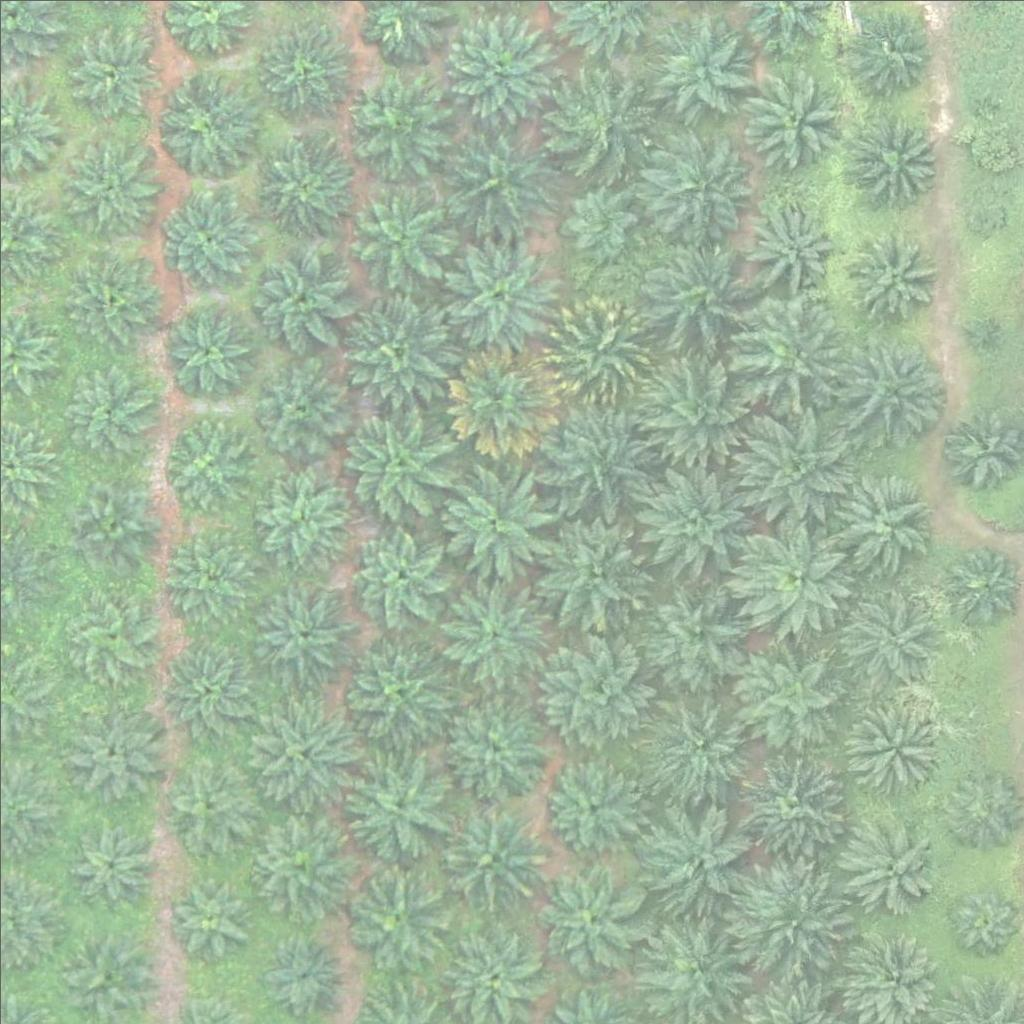Kelapa_Sawit: (443, 2, 556, 116), (836, 333, 949, 447), (732, 863, 845, 976), (731, 746, 844, 859), (638, 801, 751, 914), (644, 690, 757, 803), (636, 575, 749, 688), (536, 635, 649, 748), (533, 521, 646, 634), (534, 403, 647, 516), (343, 748, 456, 861), (245, 696, 358, 809), (242, 576, 355, 689), (341, 175, 454, 288), (445, 342, 558, 455), (543, 293, 656, 406), (443, 241, 556, 354), (446, 123, 559, 236), (737, 405, 849, 519), (643, 235, 755, 349), (639, 132, 751, 246), (734, 299, 846, 413), (737, 637, 849, 750), (738, 516, 850, 629), (635, 464, 747, 577), (532, 861, 644, 974), (430, 795, 542, 908), (437, 689, 549, 802), (437, 570, 549, 683), (440, 464, 552, 577), (337, 630, 449, 743), (336, 406, 448, 519), (343, 293, 455, 406), (646, 349, 758, 462), (838, 813, 938, 914), (843, 695, 943, 796), (538, 756, 638, 857), (348, 522, 448, 623), (156, 527, 256, 628), (55, 364, 155, 465), (58, 247, 158, 348), (59, 138, 159, 239), (60, 21, 160, 122), (159, 187, 259, 288), (154, 74, 254, 175), (249, 356, 349, 457), (251, 247, 351, 348), (253, 131, 353, 232), (251, 21, 351, 122), (343, 77, 443, 178), (652, 16, 752, 117), (743, 67, 843, 168), (833, 582, 933, 682), (831, 469, 931, 569), (346, 873, 446, 973), (248, 813, 348, 913), (160, 755, 260, 855), (62, 707, 162, 807), (547, 73, 647, 173), (66, 818, 154, 906), (67, 596, 155, 684), (64, 477, 152, 565), (846, 7, 934, 95), (256, 471, 343, 559), (161, 647, 248, 735), (165, 418, 252, 506), (162, 303, 249, 391), (746, 202, 833, 290), (846, 235, 933, 323), (853, 113, 940, 201), (945, 546, 1020, 622), (263, 935, 338, 1011), (169, 882, 244, 958), (563, 186, 638, 262), (947, 883, 1022, 958), (964, 193, 1002, 231), (964, 321, 989, 346), (968, 91, 993, 116)
